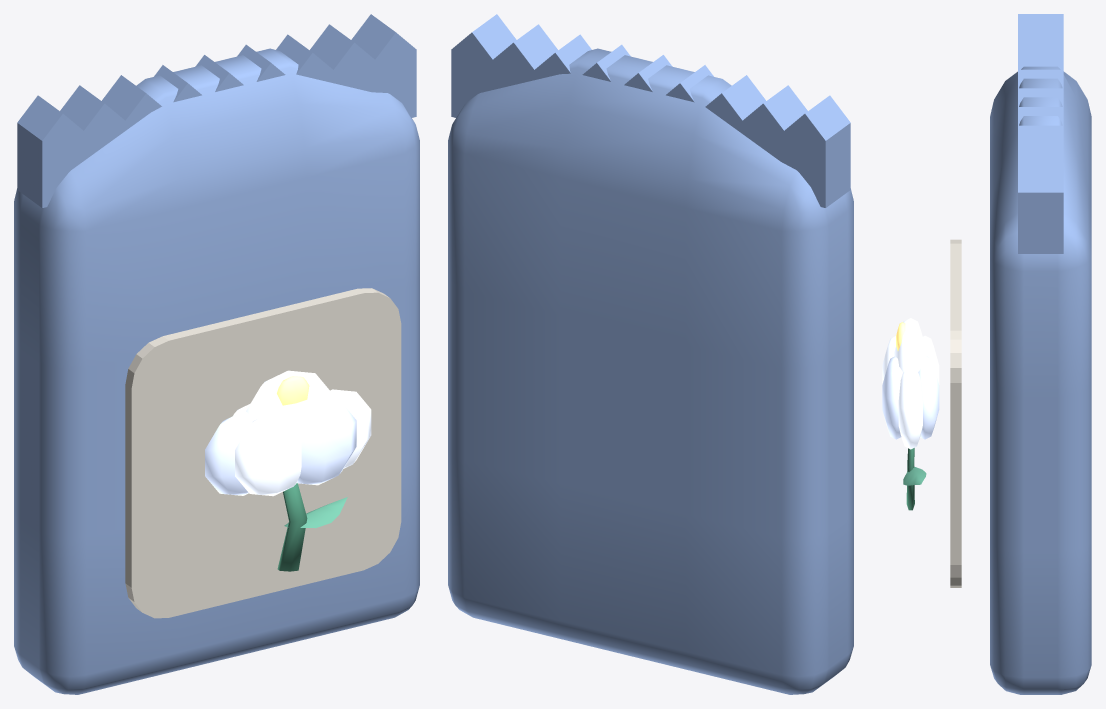
Rendered from semente-flor-de-nuvem.glb.
The picture shows the model from 3 angles, left to right: view 1: azimuth 30°, elevation 25°; view 2: azimuth 150°, elevation 25°; view 3: azimuth 270°, elevation 25°; orthographic projection. The views are drawn at different scales.
Parts seen in each view (by area): view 1: semente-flor-de-nuvem; view 2: semente-flor-de-nuvem; view 3: semente-flor-de-nuvem.
Part boxes in pixels (left/top/right/bottom): semente-flor-de-nuvem: left=14, top=14, right=419, bottom=694; semente-flor-de-nuvem: left=448, top=14, right=853, bottom=694; semente-flor-de-nuvem: left=882, top=14, right=1091, bottom=694.
Bounding box in the file's own units: 0.14 × 0.208 × 0.0741.
